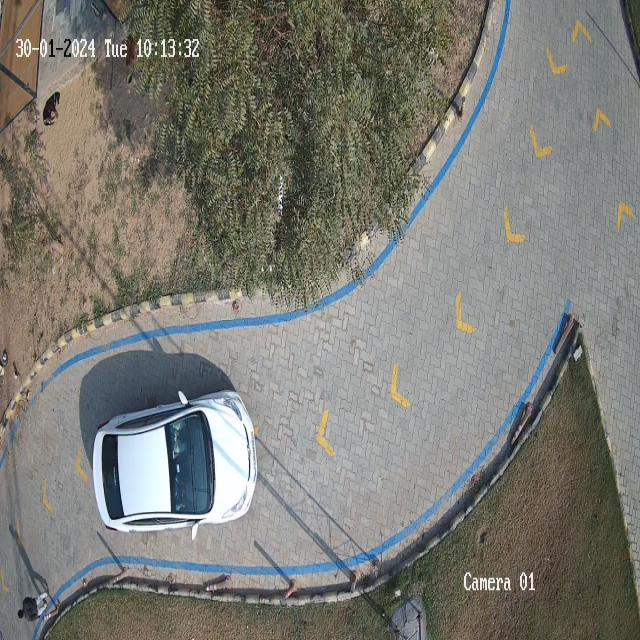car: (90, 386, 260, 534)
